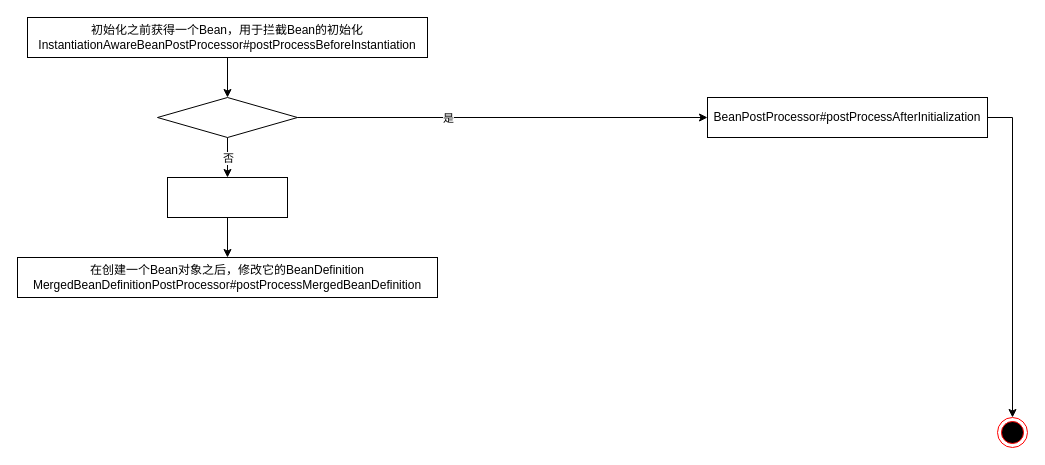
Some shapes in this 1045 by 465 pixel diagram are drawn without their labels. Here are the shapes that lost their labels. From the top down, the box of each, then its label:
(156, 96, 298, 138): 获得了一个Bean？
(166, 176, 288, 218): 创建对象
